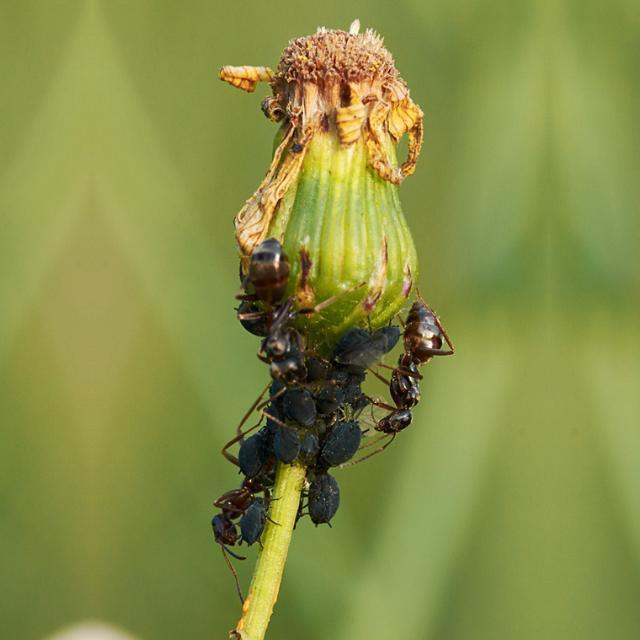Formica: (207, 222, 333, 402), (366, 262, 462, 454), (172, 436, 282, 566)
